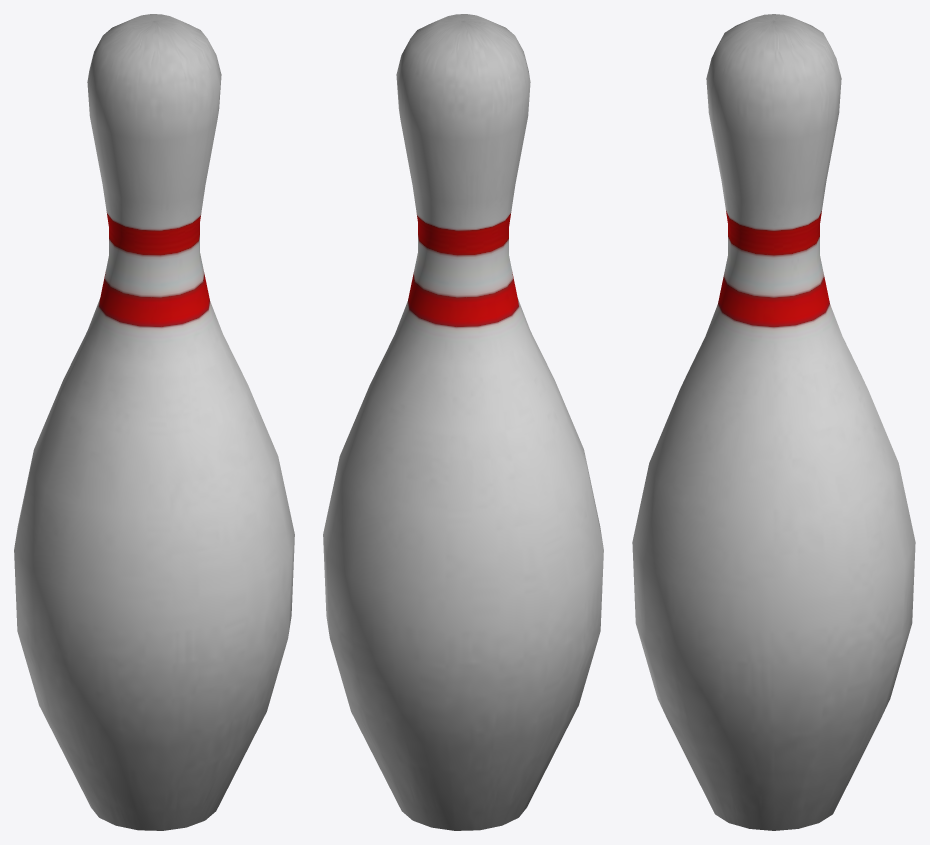
The model's file is Unity2Skfb.gltf.
3 views of the same model, side by side, from view 1: azimuth 30°, elevation 25°; view 2: azimuth 150°, elevation 25°; view 3: azimuth 270°, elevation 25° (orthographic).
Visible parts, largest first — view 1: Pin; view 2: Pin; view 3: Pin.
Part boxes in pixels (x1=…): Pin: x1=14, y1=14, x2=294, y2=830; Pin: x1=323, y1=14, x2=603, y2=830; Pin: x1=632, y1=14, x2=915, y2=830.
Size of the model in its own units: 0.1249 by 0.3807 by 0.1249.
Materials: 1 (1 with a texture image).
